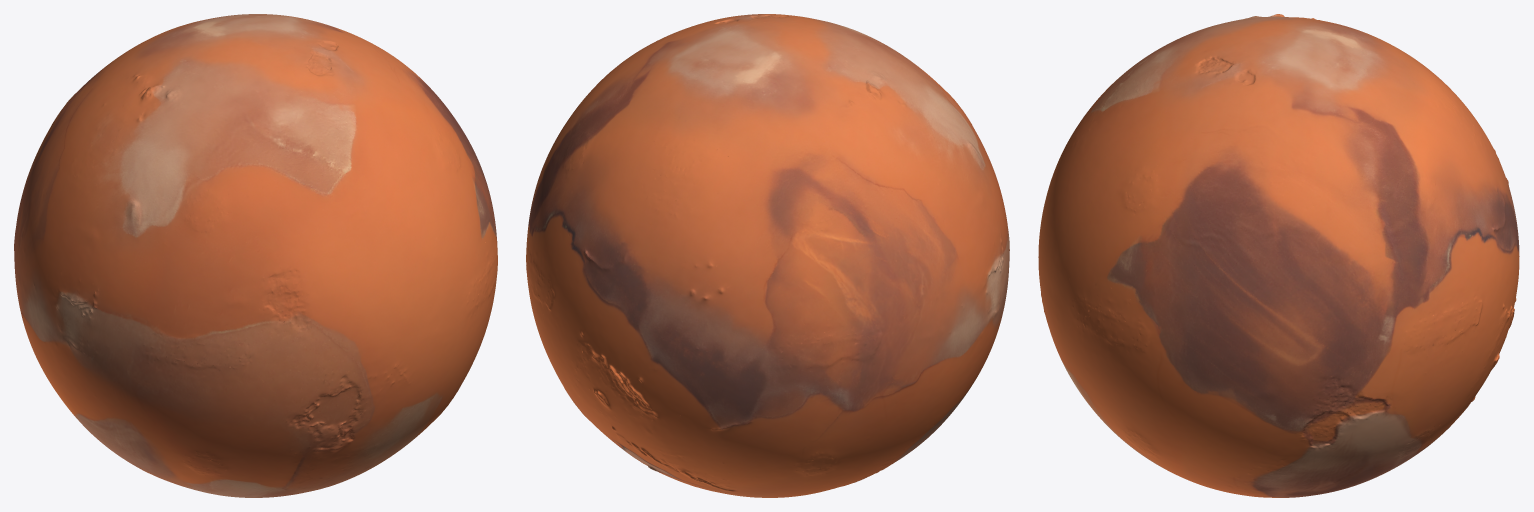
Rendered from mars.glb.
3 views of the same model, side by side, from view 1: azimuth 30°, elevation 25°; view 2: azimuth 150°, elevation 25°; view 3: azimuth 270°, elevation 25° (orthographic).
Bounding box in the file's own units: 1.9 × 1.9 × 1.9.
1 material, 1 textured.
